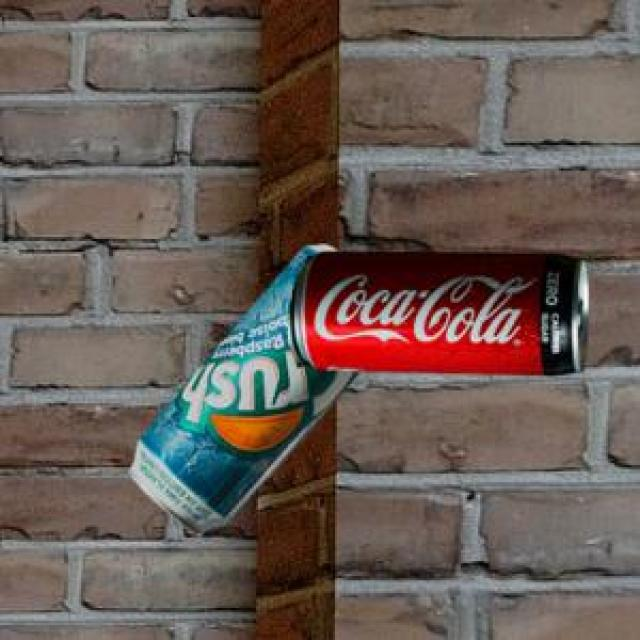logam: (125, 242, 357, 532), (285, 249, 586, 372)
